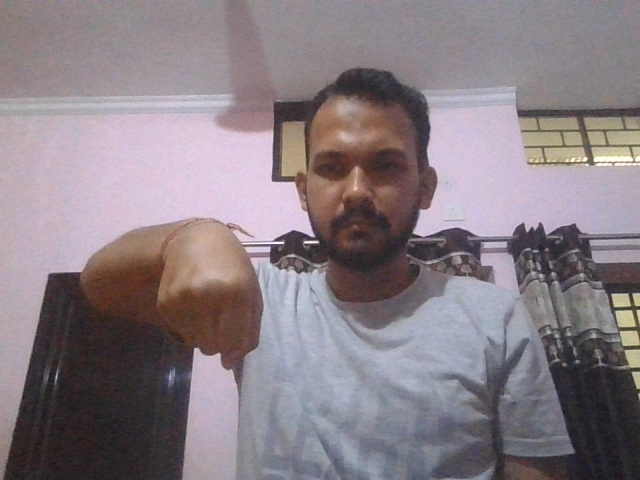yes: (157, 216, 264, 372)
